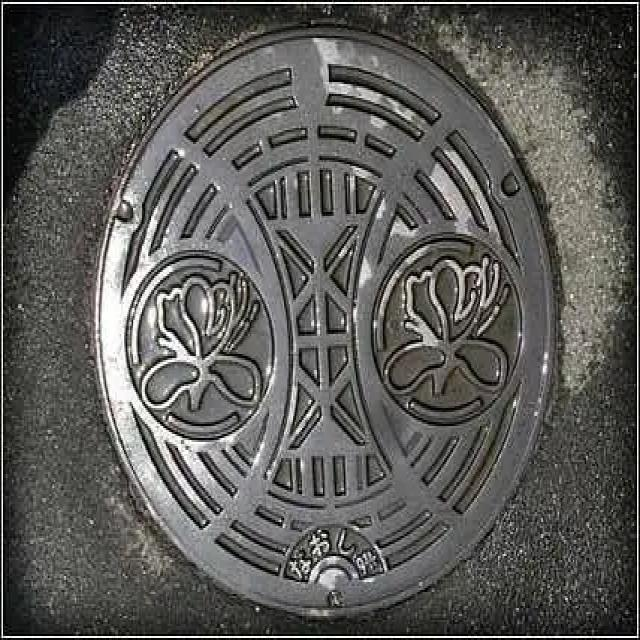manhole: (91, 26, 563, 621)
